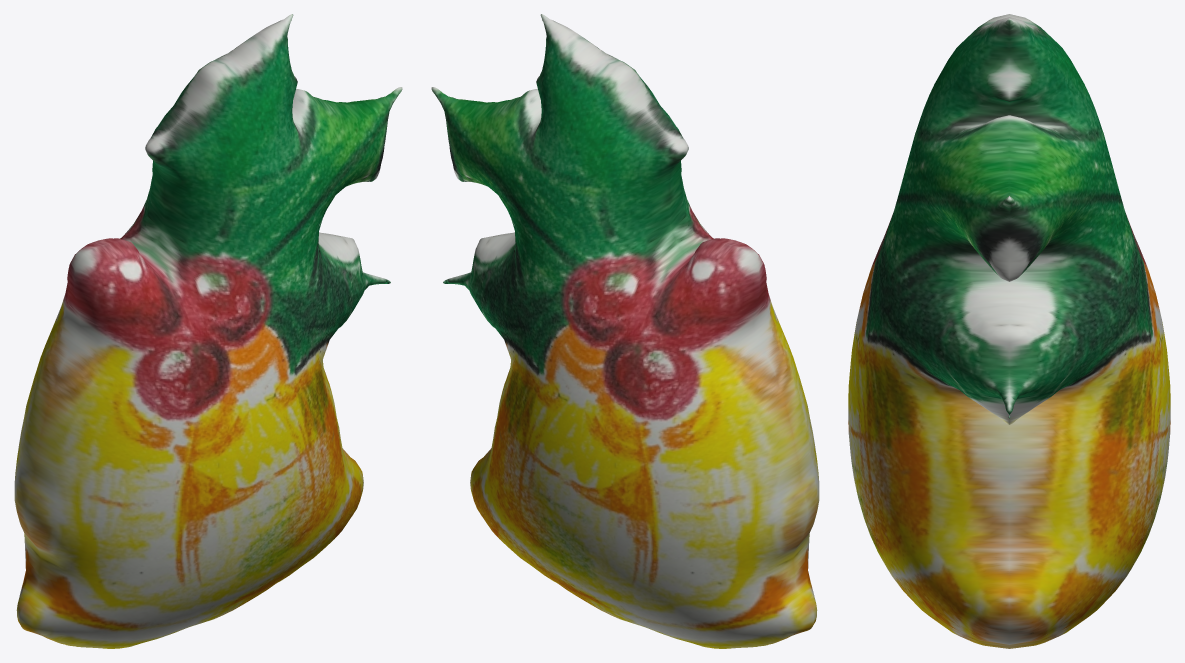
Rendered from 징글벨.glb.
3 renders of one model, left to right at view 1: azimuth 30°, elevation 25°; view 2: azimuth 150°, elevation 25°; view 3: azimuth 270°, elevation 25°, orthographic. The views are drawn at different scales.
Bounding box in the file's own units: 3.49 × 5.09 × 2.18.
Materials: 1 (1 with a texture image).
